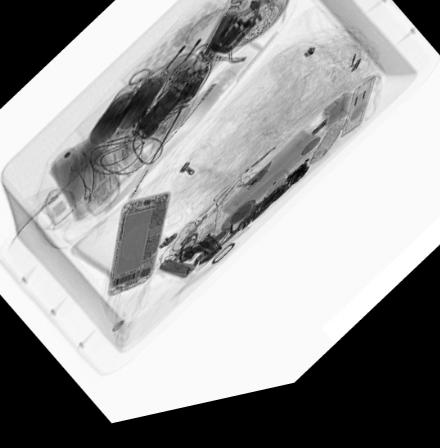Powerbank: (74, 64, 183, 158)
